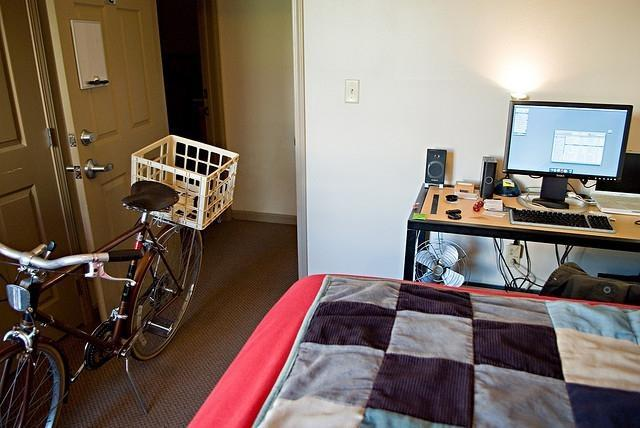bicycle: (0, 178, 203, 422)
